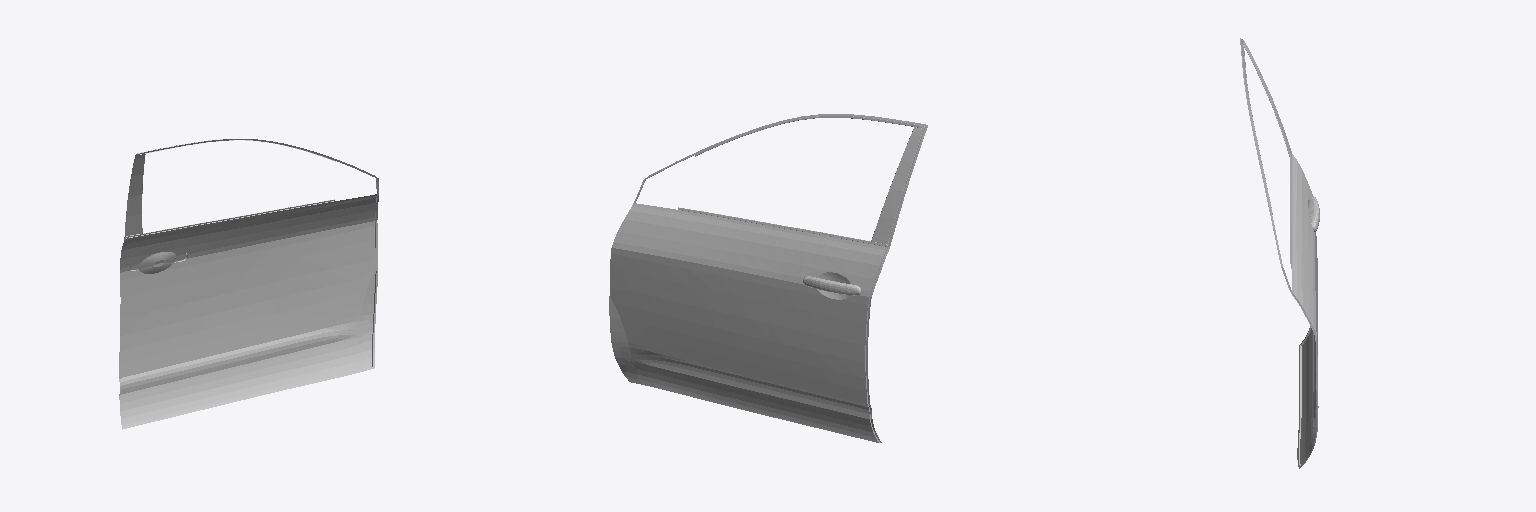
The picture shows the model from 3 angles: view 1: azimuth 30°, elevation 25°; view 2: azimuth 150°, elevation 25°; view 3: azimuth 270°, elevation 25°; orthographic projection.
Parts seen in each view (by area): view 1: Z727_261B_L_Z727_261B_L_2_DaS, Z727_261B_L_Z727_261B_L_3_D, Z727_261B_L_1_D_Z727_261B_L, Z727_261B_L_Z727_261B_L_2_DaS_E; view 2: Z727_261B_L_Z727_261B_L_2_DaS, Z727_261B_L_1_D_Z727_261B_L, Z727_261B_L_Z727_261B_L_3_D, Z727_261B_L_Z727_261B_L_2_DaS_E; view 3: Z727_261B_L_Z727_261B_L_2_DaS, Z727_261B_L_Z727_261B_L_2_DaS_E, Z727_261B_L_1_D_Z727_261B_L.
Part boxes in pixels (x1,y1,x2,y2): Z727_261B_L_Z727_261B_L_2_DaS: (121, 194, 376, 426); Z727_261B_L_Z727_261B_L_3_D: (119, 139, 378, 429); Z727_261B_L_1_D_Z727_261B_L: (126, 139, 335, 238); Z727_261B_L_Z727_261B_L_2_DaS_E: (138, 142, 377, 366); Z727_261B_L_Z727_261B_L_2_DaS: (611, 203, 886, 442); Z727_261B_L_1_D_Z727_261B_L: (678, 116, 924, 246); Z727_261B_L_Z727_261B_L_3_D: (609, 114, 927, 442); Z727_261B_L_Z727_261B_L_2_DaS_E: (635, 127, 925, 442); Z727_261B_L_Z727_261B_L_2_DaS: (1291, 154, 1319, 464); Z727_261B_L_Z727_261B_L_2_DaS_E: (1241, 39, 1318, 466); Z727_261B_L_1_D_Z727_261B_L: (1242, 39, 1291, 267).
Size of the model in its own units: 143 by 147 by 35.45.